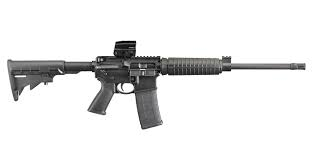gun: (5, 39, 307, 129)
